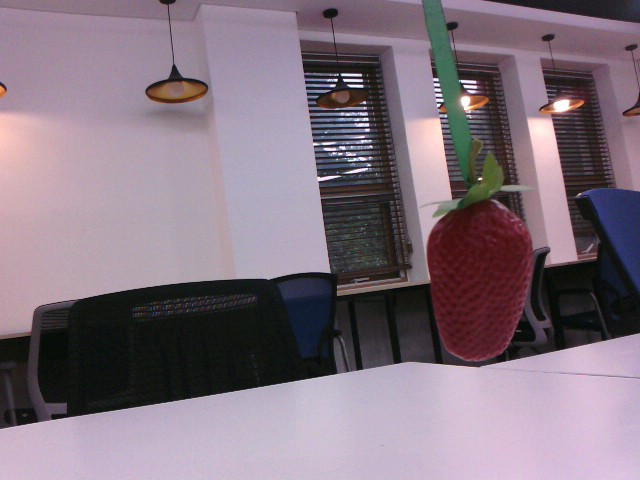strawberry: (421, 184, 537, 365)
